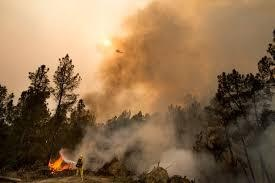fire: (47, 150, 73, 173)
